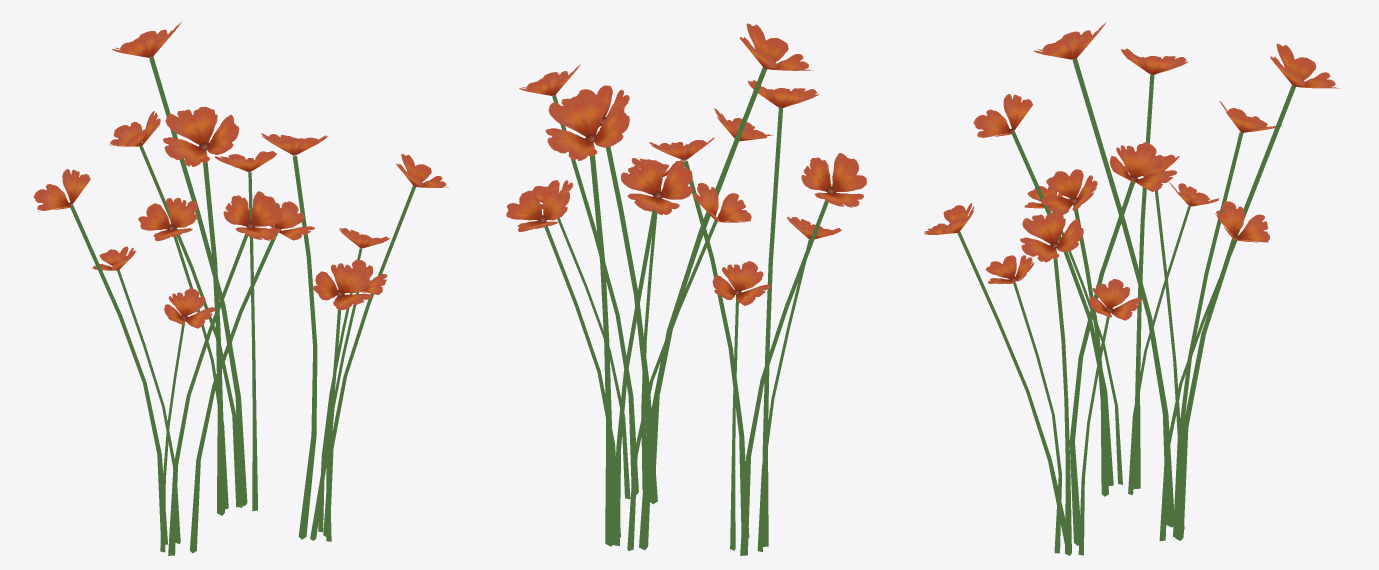
File: SM_Flower_08_03.fbx
3 views of the same model, side by side, from view 1: azimuth 30°, elevation 25°; view 2: azimuth 150°, elevation 25°; view 3: azimuth 270°, elevation 25° (orthographic). The views are drawn at different scales.
Visible parts, largest first — view 1: SM_Flower_08_03_LOD0; view 2: SM_Flower_08_03_LOD0; view 3: SM_Flower_08_03_LOD0.
Boxes of the visible parts, bbox=[...] form: SM_Flower_08_03_LOD0: bbox=[33, 21, 448, 555]; SM_Flower_08_03_LOD0: bbox=[506, 23, 866, 555]; SM_Flower_08_03_LOD0: bbox=[924, 22, 1340, 555].
Size of what is drawn, in the model's own units: 56.67 by 65.02 by 54.76.
